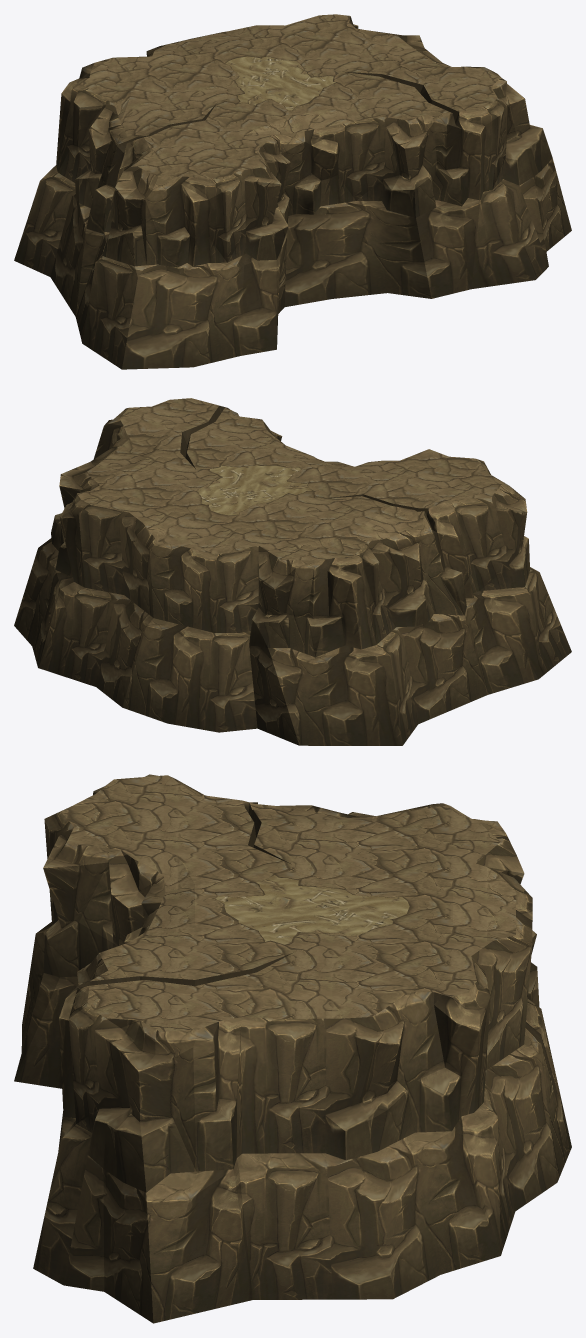
The model's file is D_dimian004.fbx.
3 renders of one model, top to bottom at view 1: azimuth 30°, elevation 25°; view 2: azimuth 150°, elevation 25°; view 3: azimuth 270°, elevation 25°, orthographic. The views are drawn at different scales.
Parts seen in each view (by area): view 1: D_dimian004; view 2: D_dimian004; view 3: D_dimian004.
Boxes of the visible parts, left/top/right/bottom form: D_dimian004: left=14, top=14, right=571, bottom=369; D_dimian004: left=14, top=398, right=571, bottom=745; D_dimian004: left=14, top=774, right=571, bottom=1323.
Size of the model in its own units: 2501 by 830 by 1730.
